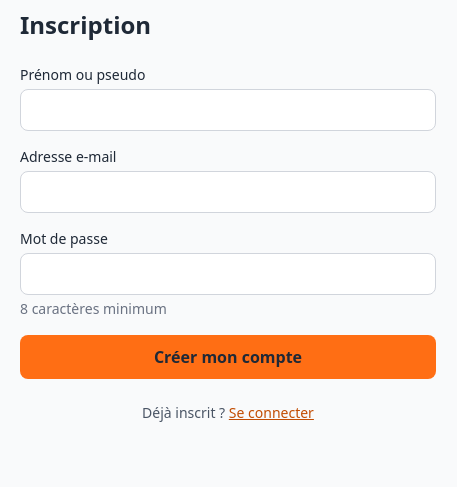
Test case: page d'inscription › refuse un pseudo trop court et une adresse invalide
Type "M" into the field labelled "Prénom ou pseudo" at [228, 110], box [20,89,436,131]
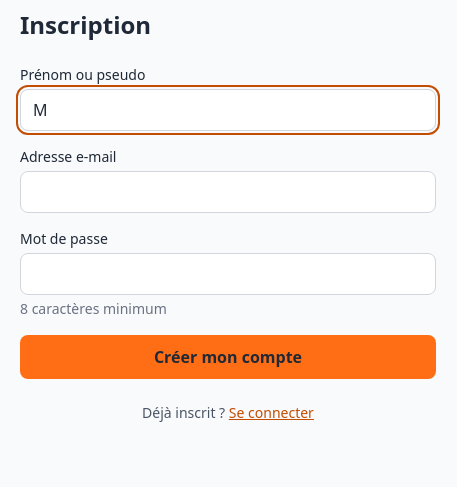
Type "pas-un-email" into the field labelled "Adresse e-mail" at [228, 192], box [20,171,436,213]
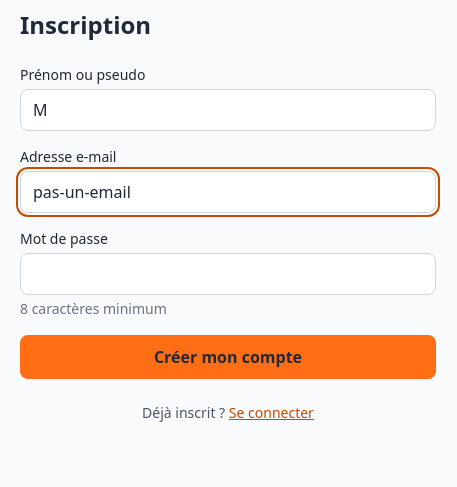
Type "motdepasse" into the password field labelled "Mot de passe" at [228, 274], box [20,253,436,295]
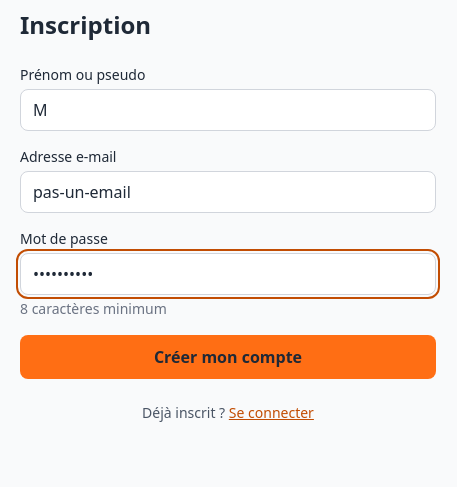
Click the button "Créer mon compte" at [228, 357], box [20,335,436,379]
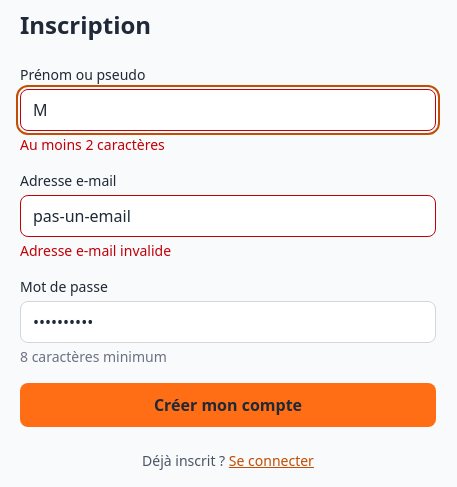
Result: the text "Adresse e-mail invalide" is shown at [20,241,171,260]
Result: the text "Au moins 2 caractères" is shown at [20,135,165,154]
